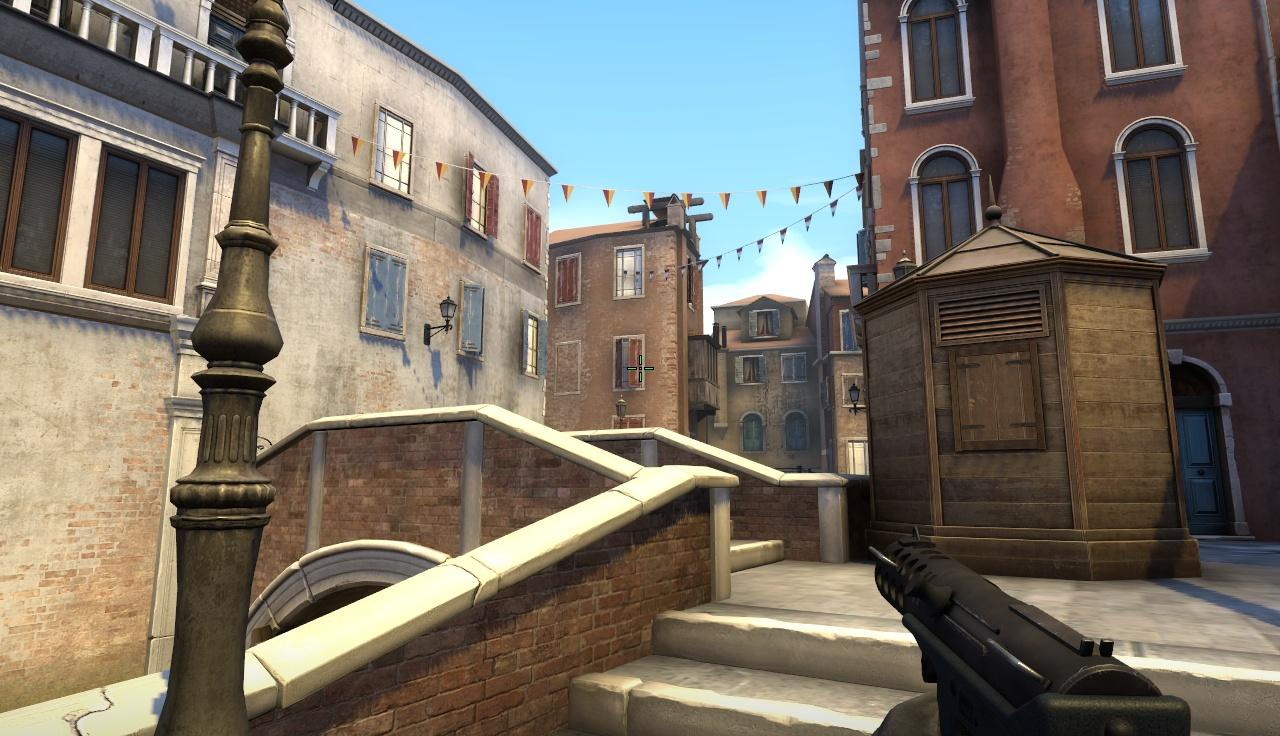pistol: (866, 523, 1195, 736)
